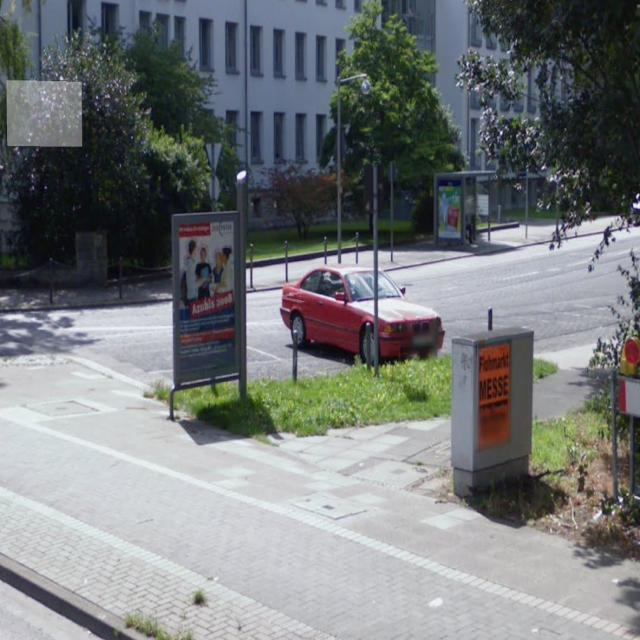Werbetafel frei: (173, 210, 241, 385), (472, 335, 514, 458), (434, 174, 465, 241)
